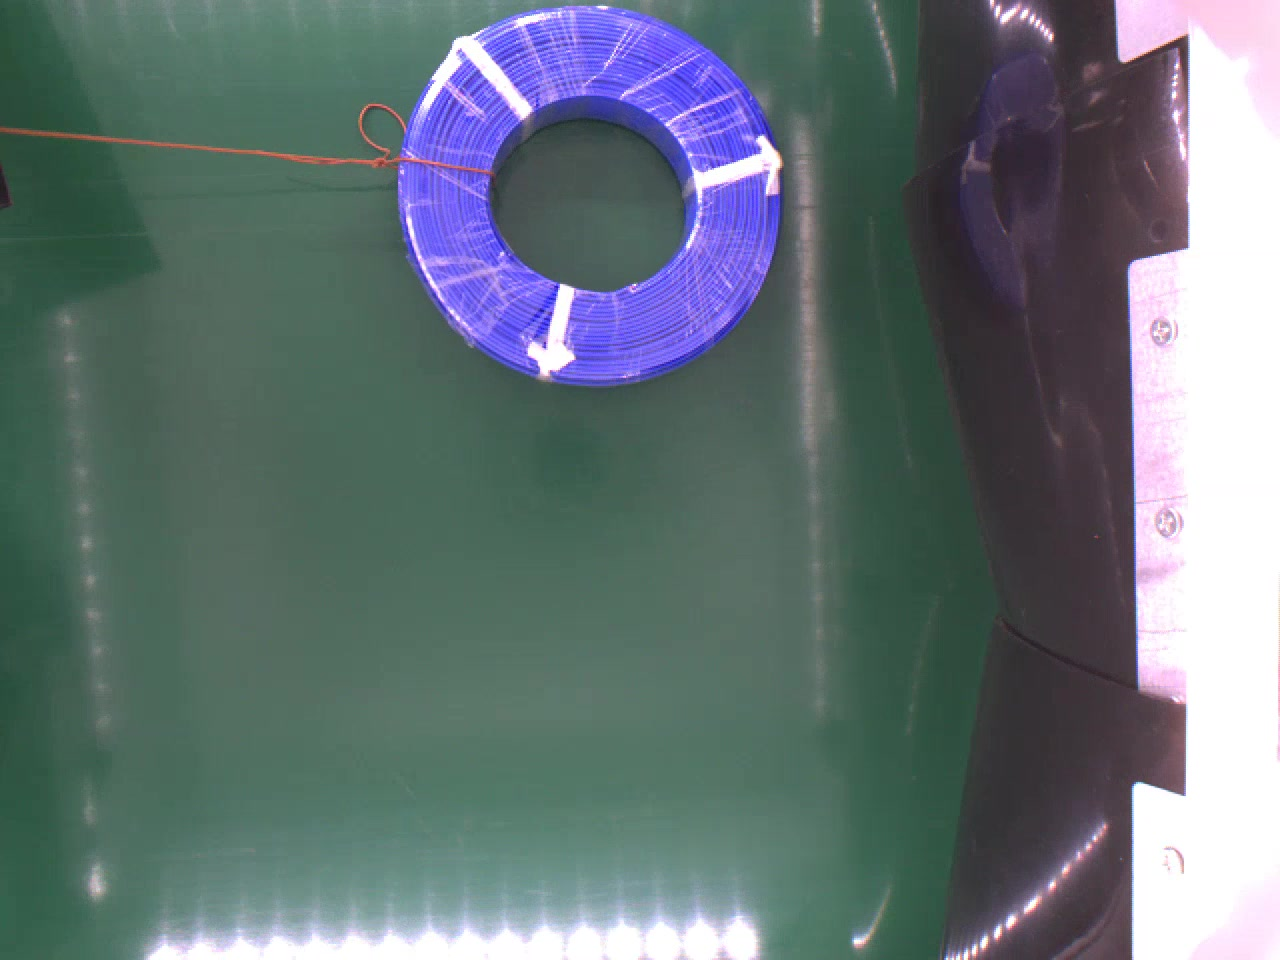blue: (395, 5, 785, 387)
